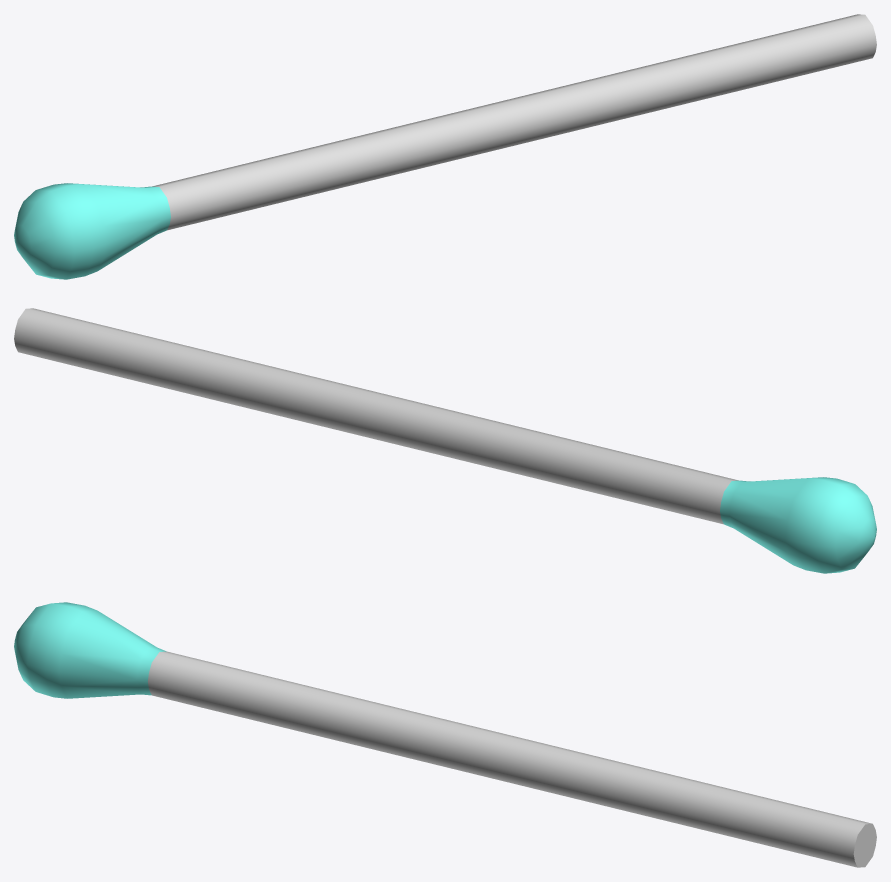
File: palillo.fbx
3 renders of one model, top to bottom at view 1: azimuth 30°, elevation 25°; view 2: azimuth 150°, elevation 25°; view 3: azimuth 330°, elevation 25°, orthographic.
Visible parts, largest first — view 1: Palillo; view 2: Palillo; view 3: Palillo.
Part boxes in pixels (bbox=[...]): Palillo: bbox=[14, 14, 876, 279]; Palillo: bbox=[14, 308, 876, 573]; Palillo: bbox=[14, 602, 876, 867].
Bounding box in the file's own units: 7.05 × 0.7093 × 0.6985.
